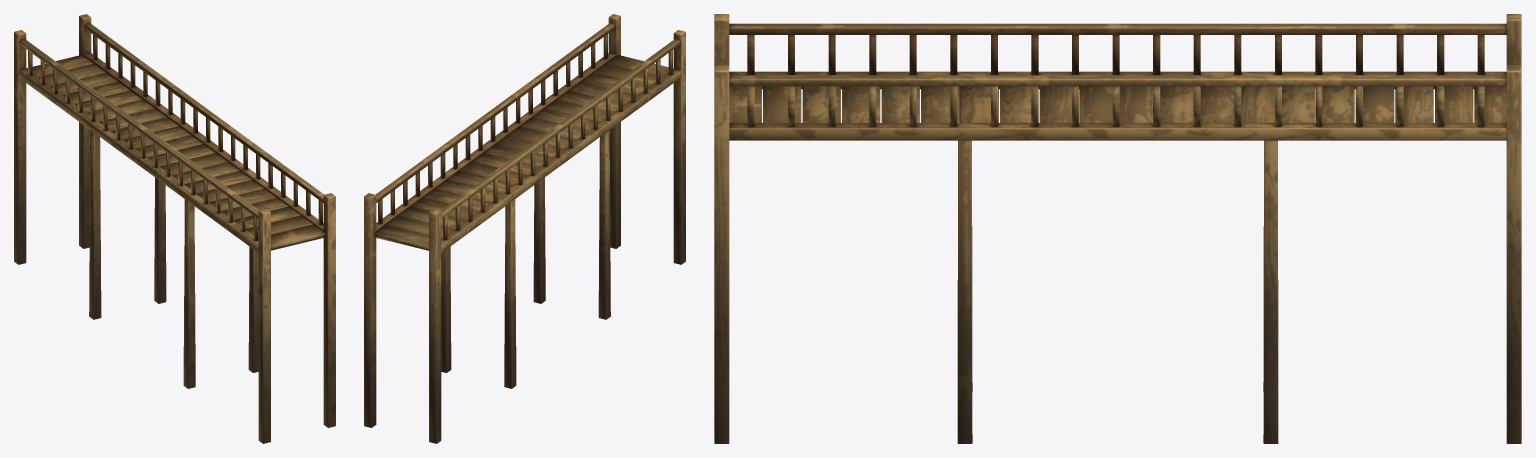
Rendered from Jembatan.fbx.
The picture shows the model from 3 angles, left to right: view 1: azimuth 30°, elevation 25°; view 2: azimuth 150°, elevation 25°; view 3: azimuth 270°, elevation 25°; orthographic projection. The views are drawn at different scales.
Visible parts, largest first — view 1: Jembatan_LOD0; view 2: Jembatan_LOD0; view 3: Jembatan_LOD0.
Part boxes in pixels (bbox=[...]): Jembatan_LOD0: bbox=[14, 14, 335, 443]; Jembatan_LOD0: bbox=[364, 14, 685, 443]; Jembatan_LOD0: bbox=[714, 14, 1521, 443].
Size of the model in its own units: 1211 by 7156 by 3646.
